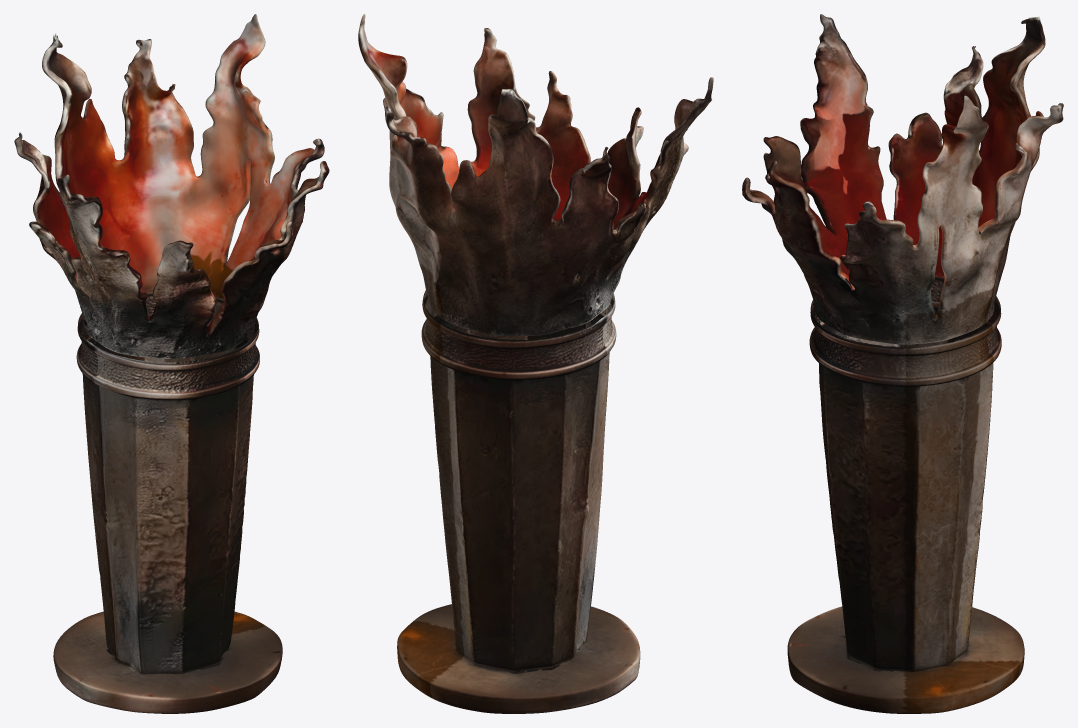
3 views of the same model, side by side, from view 1: azimuth 30°, elevation 25°; view 2: azimuth 150°, elevation 25°; view 3: azimuth 270°, elevation 25° (orthographic). The views are drawn at different scales.
Parts seen in each view (by area): view 1: tripo_node_e5aebacb-43a2-41b1-89a9-f6548e4e559b; view 2: tripo_node_e5aebacb-43a2-41b1-89a9-f6548e4e559b; view 3: tripo_node_e5aebacb-43a2-41b1-89a9-f6548e4e559b.
Boxes of the visible parts, x1,y1,x2,y2 form: tripo_node_e5aebacb-43a2-41b1-89a9-f6548e4e559b: (14, 14, 329, 713); tripo_node_e5aebacb-43a2-41b1-89a9-f6548e4e559b: (358, 14, 713, 713); tripo_node_e5aebacb-43a2-41b1-89a9-f6548e4e559b: (742, 14, 1063, 713).
Size of the model in its own units: 0.4821 by 0.9801 by 0.4542.
1 material, 1 textured.
